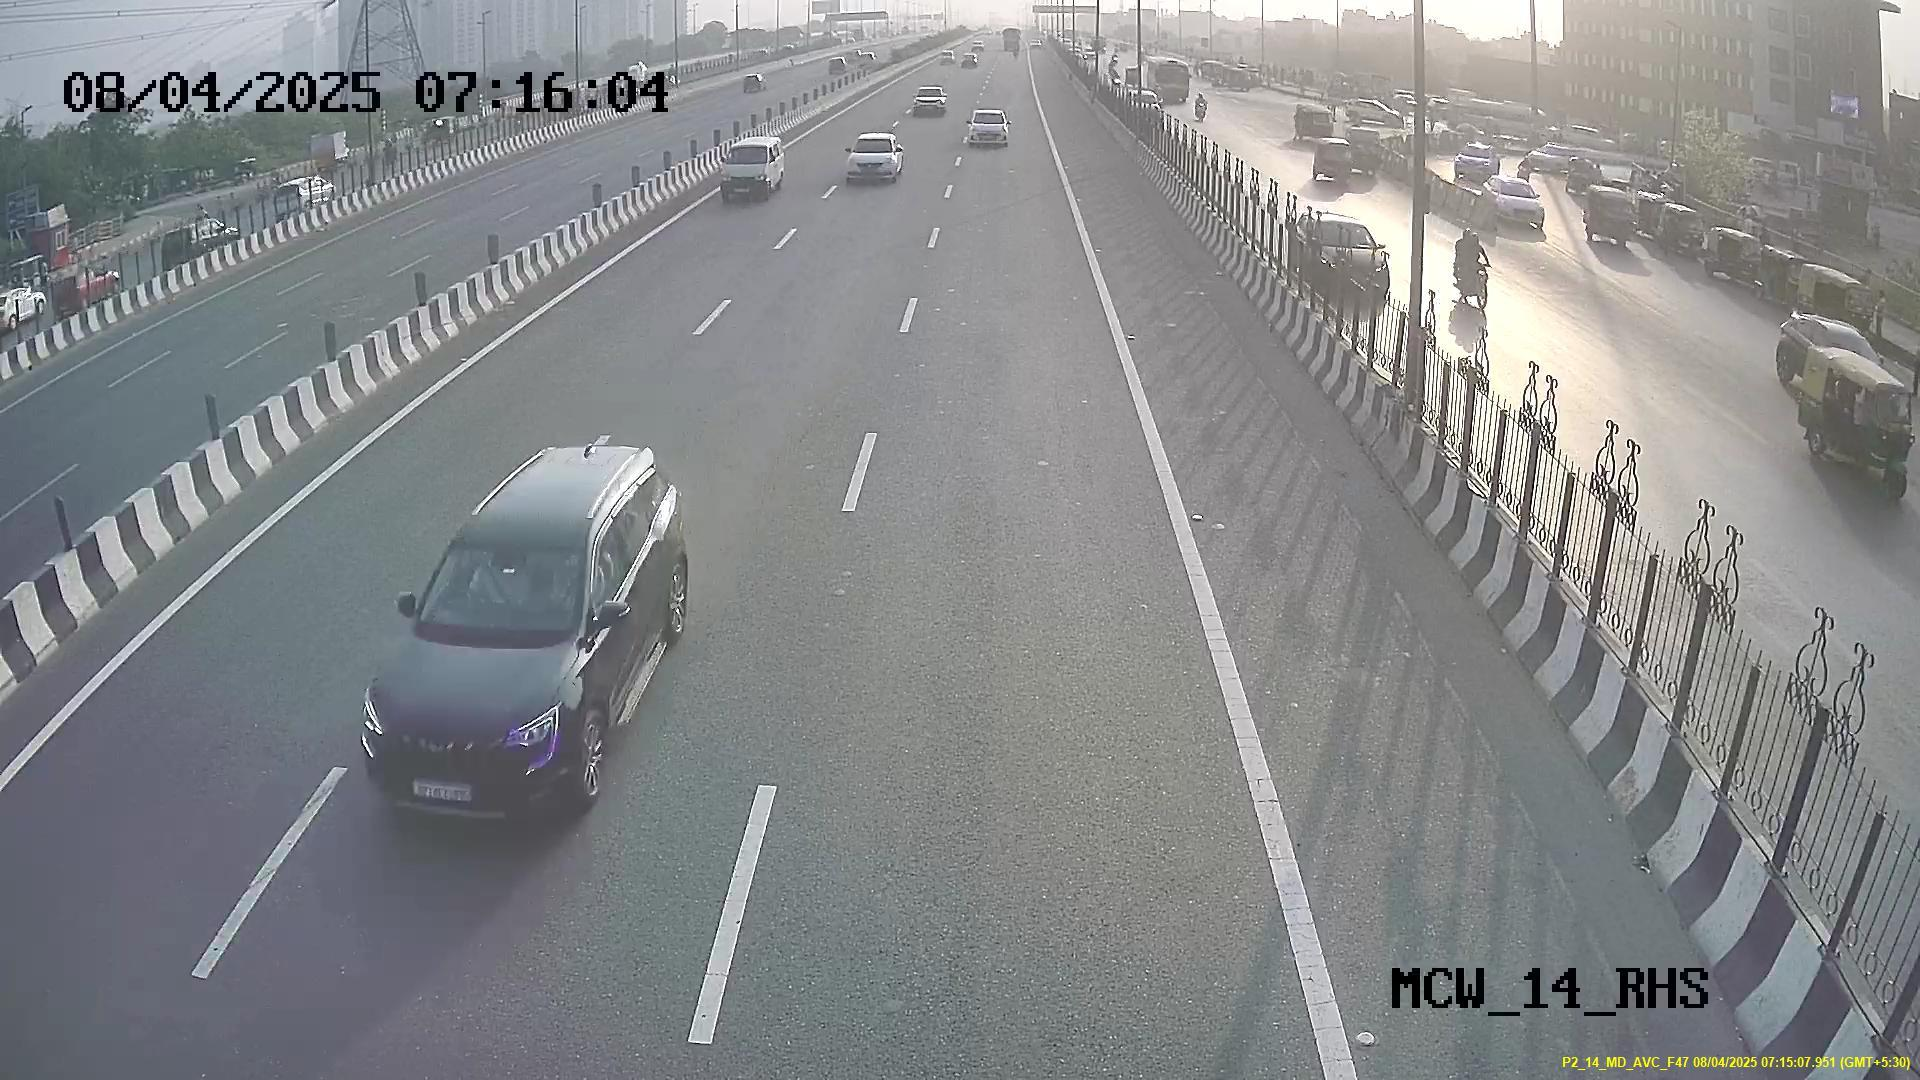car: (353, 492, 646, 824)
